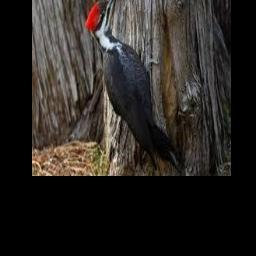Woodpecker: (84, 0, 181, 174)
